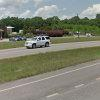Car: (21, 33, 56, 53)
